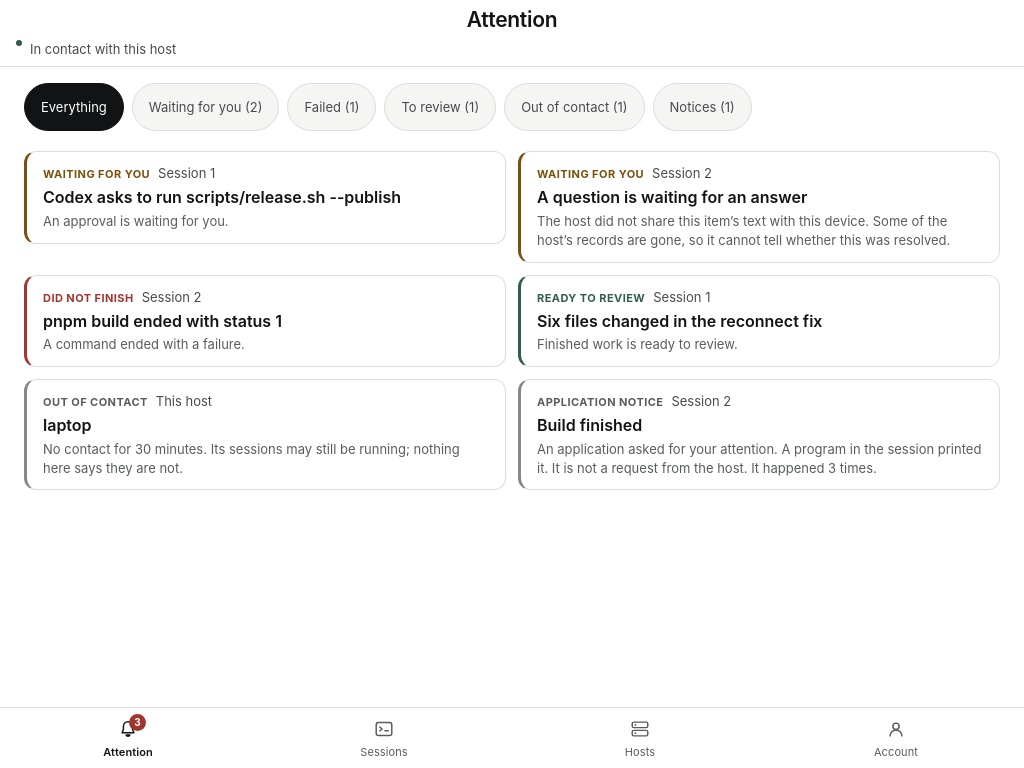
Scenario: the terminal keys and the two views (KR-REQ-13.17, 13.03) › offers the terminal keys with the platform minimum and a spoken name
Click the button "Sessions". click: [384, 738]
box: [256,708,512,767]
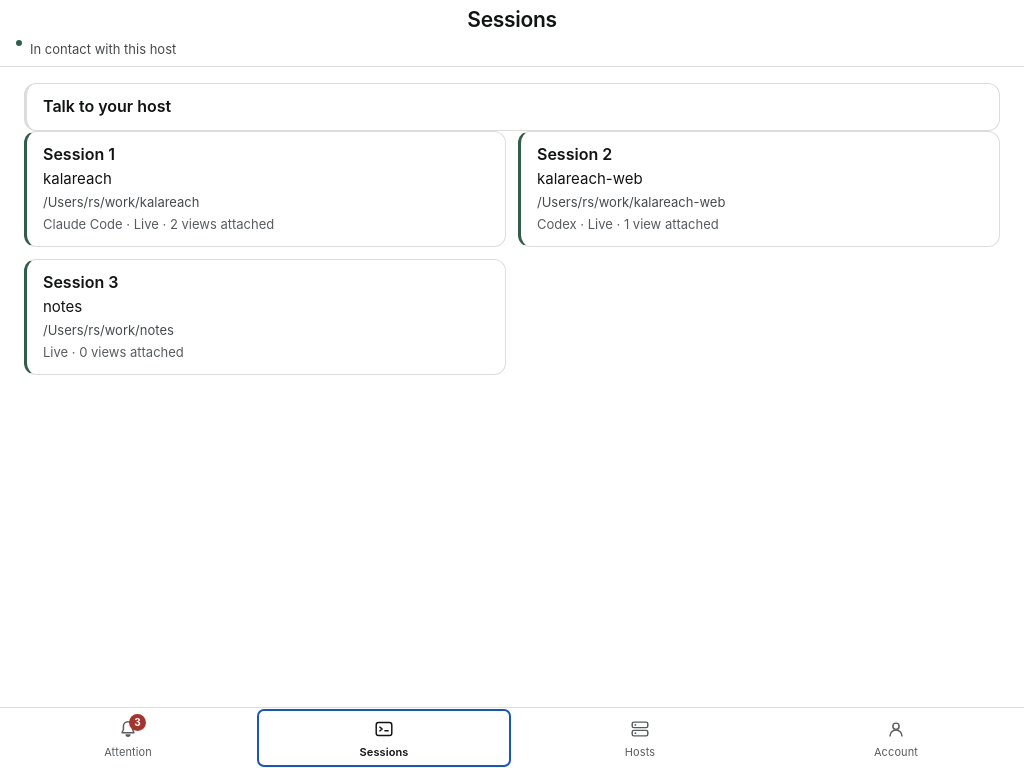
Click the button "Session 1". click: [79, 154]
box: [24,131,506,247]
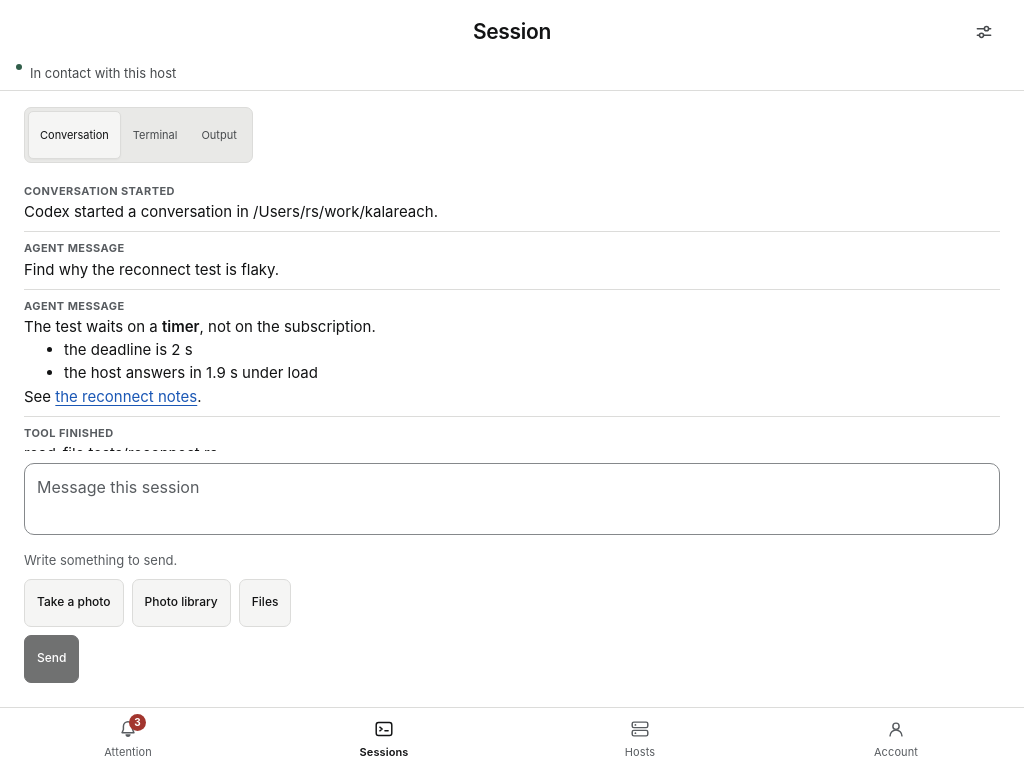
Click the tab "Terminal". click: [155, 135]
box: [121,111,189,159]
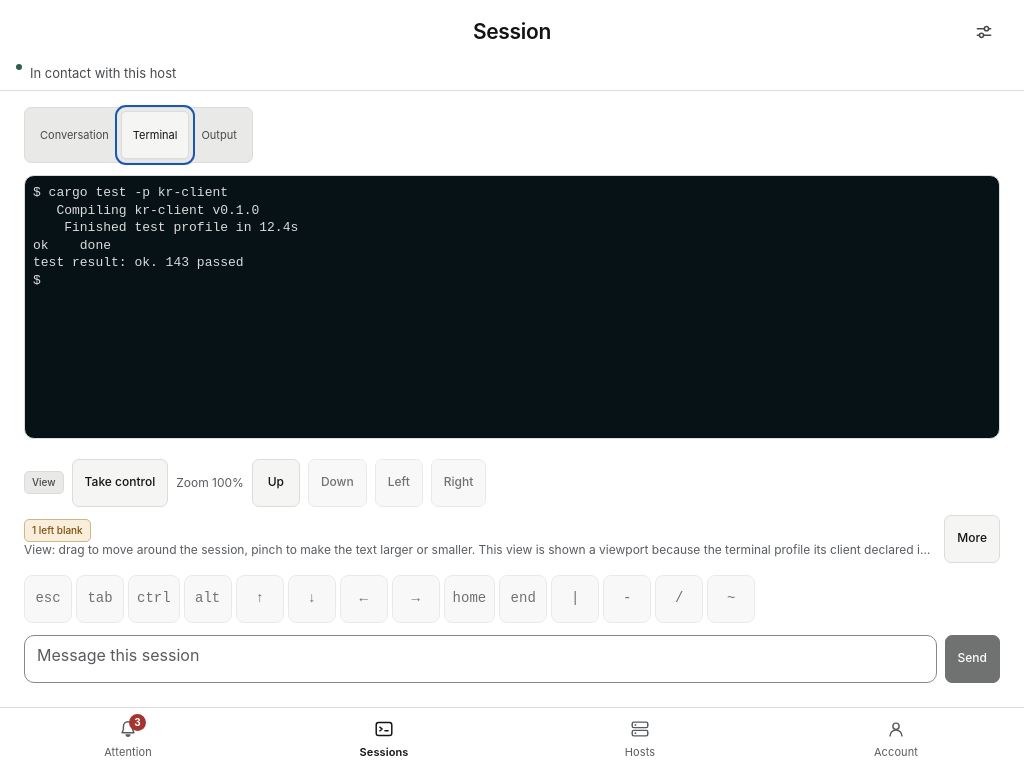
Expected: the button with aria-label "Control, off" is disabled, [128,574,180,622]
Click the button "Take control". click: [120, 482]
box: [72,458,168,506]
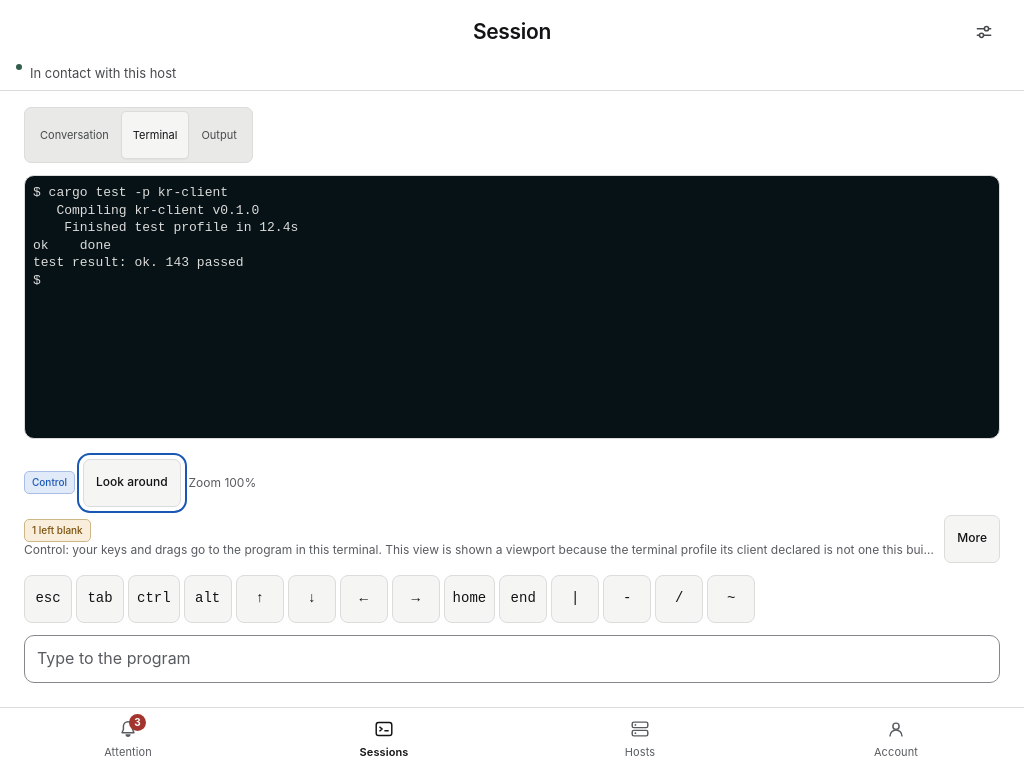
Expected: the button with aria-label "Control, off" is enabled
Click the button with aria-label "Control, off". click: [154, 598]
box: [128,574,180,622]
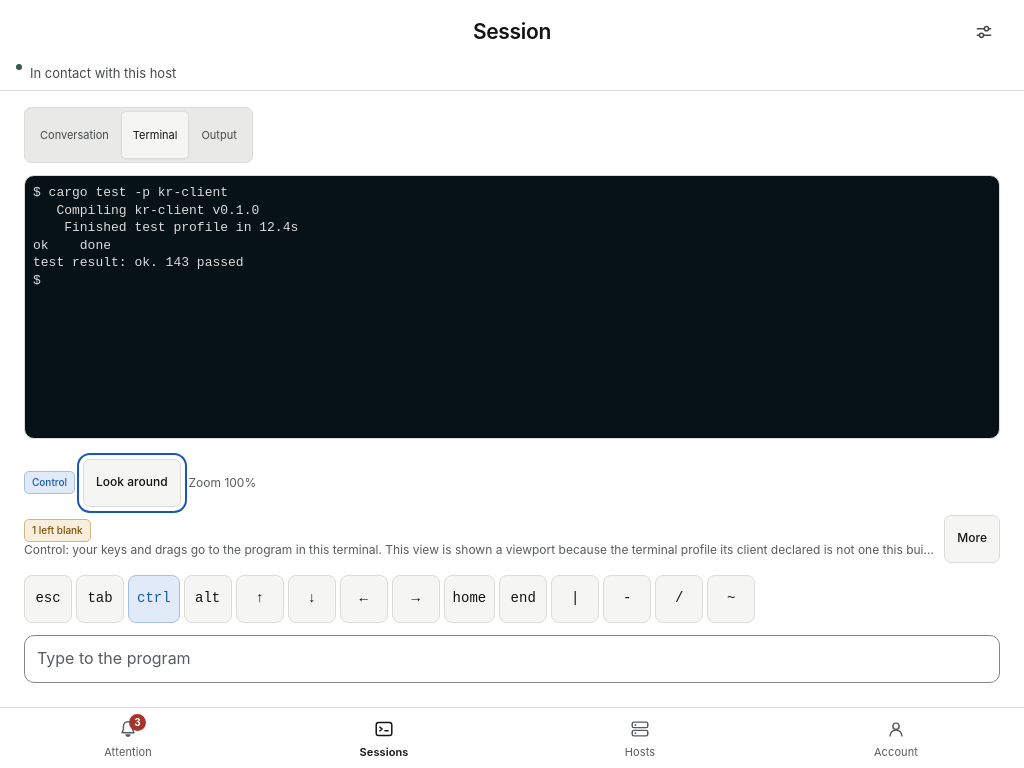
Expected: the button with aria-label "Control, held for the next key" is shown, [128,574,180,622]
